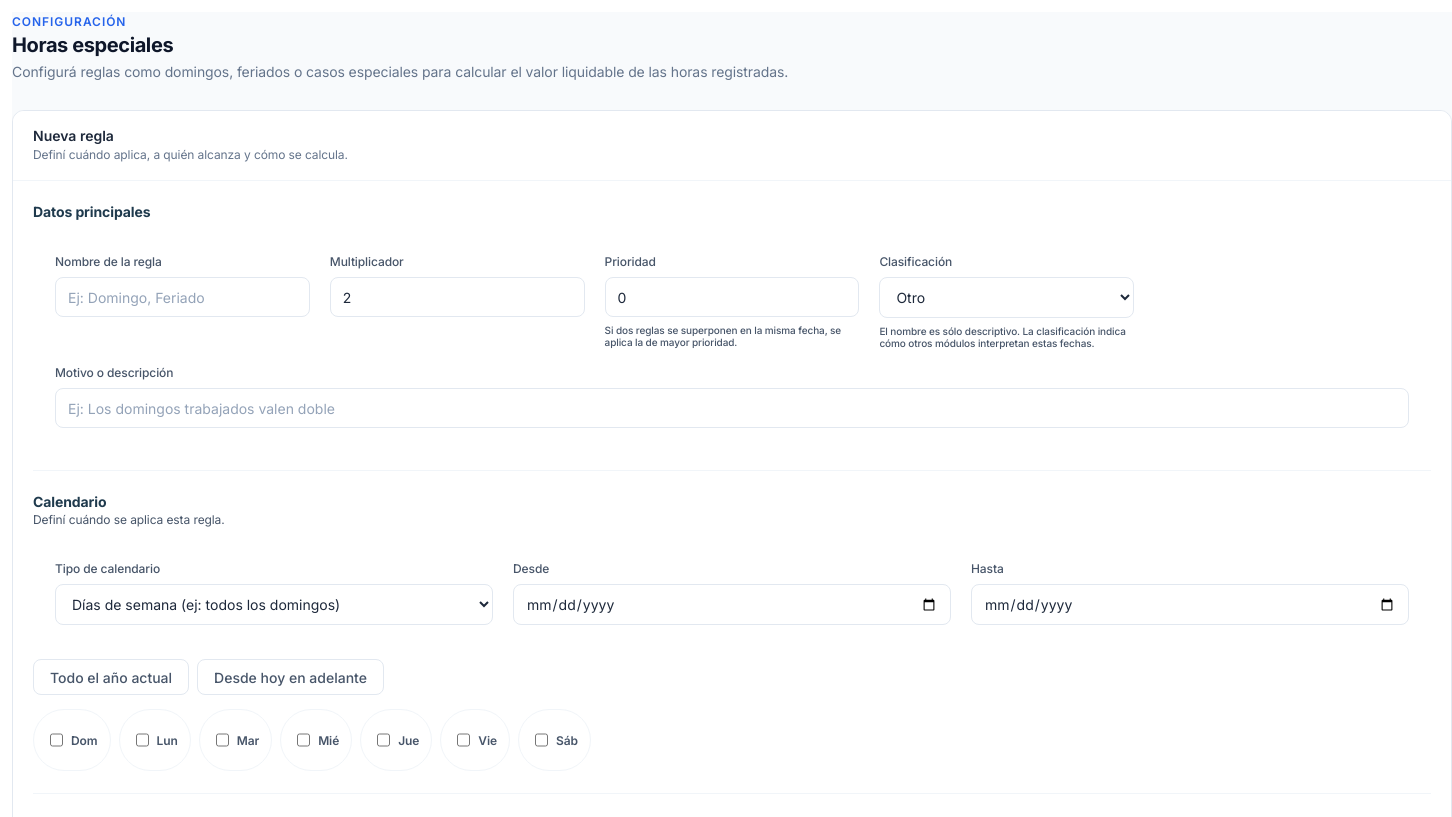
Test: WorkScheduleSettingsPage — Etapa 12B/12C (clasificación estructurada, kind) › al elegir 'Feriado' aparece el aviso de que esas fechas podrán usarse a futuro en Turnos — con otra clasificación, no aparece
This screenshot has width=1452, height=817.
Expected: the text "podrán usarse más adelante para asignar" is not shown
Step 1. Select "Feriado" in the dropdown labelled "Clasificación" → (1007, 298), box [879,277,1134,318]
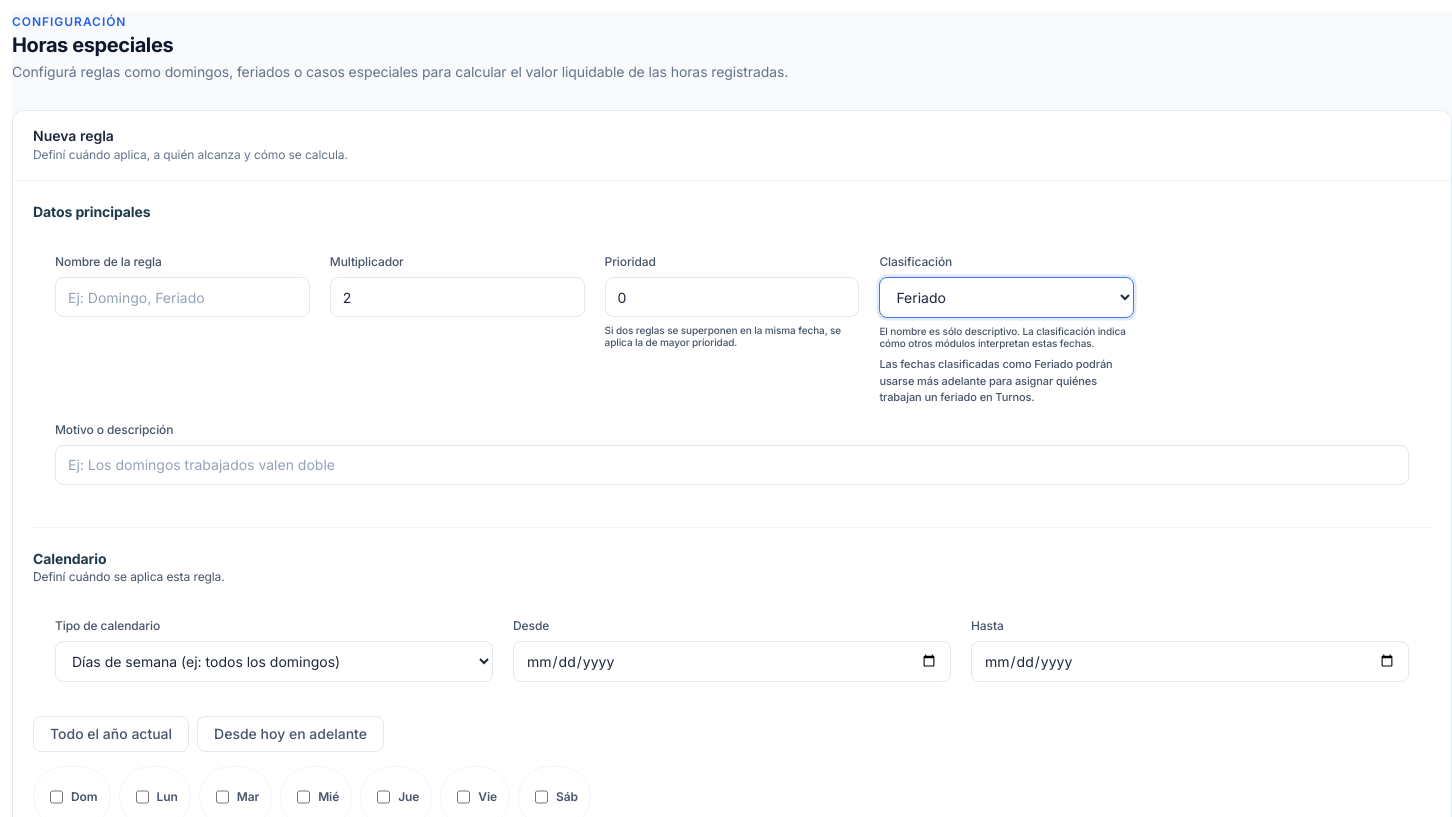
Expected: the text "Las fechas clasificadas como Feriado podrán usarse más adelante para asignar quiénes trabajan un feriado en Turnos." is shown, [879,357,1113,404]
Step 2. Select "Domingo" in the dropdown labelled "Clasificación" → (1007, 298), box [879,277,1134,318]
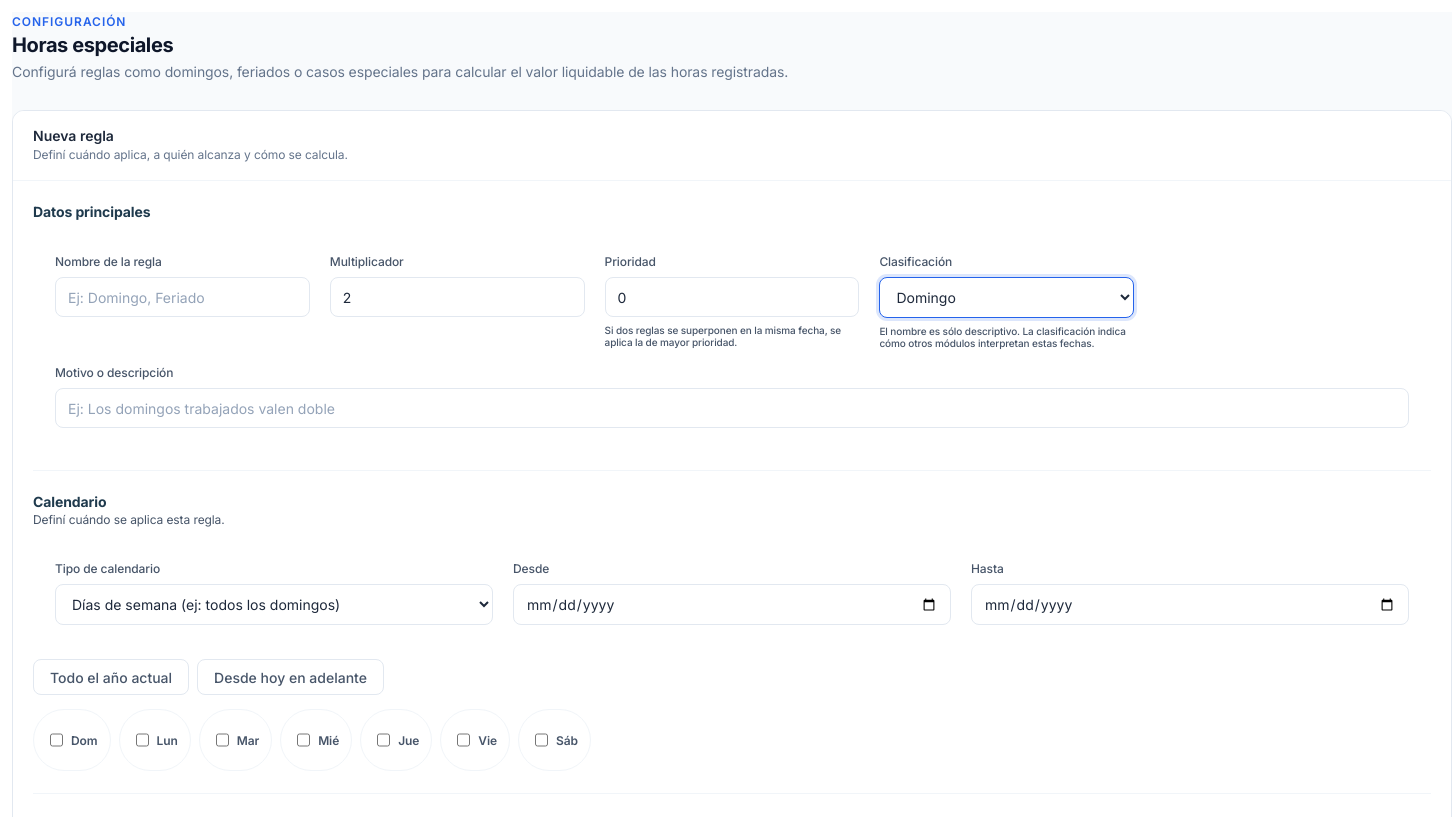
Expected: the text "podrán usarse más adelante para asignar" is gone
